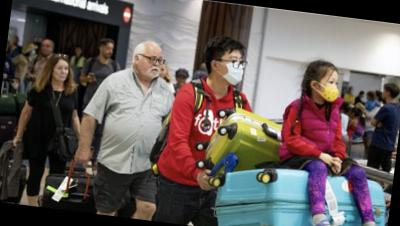with_mask: (216, 54, 247, 85), (317, 74, 343, 105)
without_mask: (140, 52, 166, 81), (53, 64, 71, 83), (38, 41, 55, 57), (102, 43, 115, 60), (175, 74, 189, 87)
